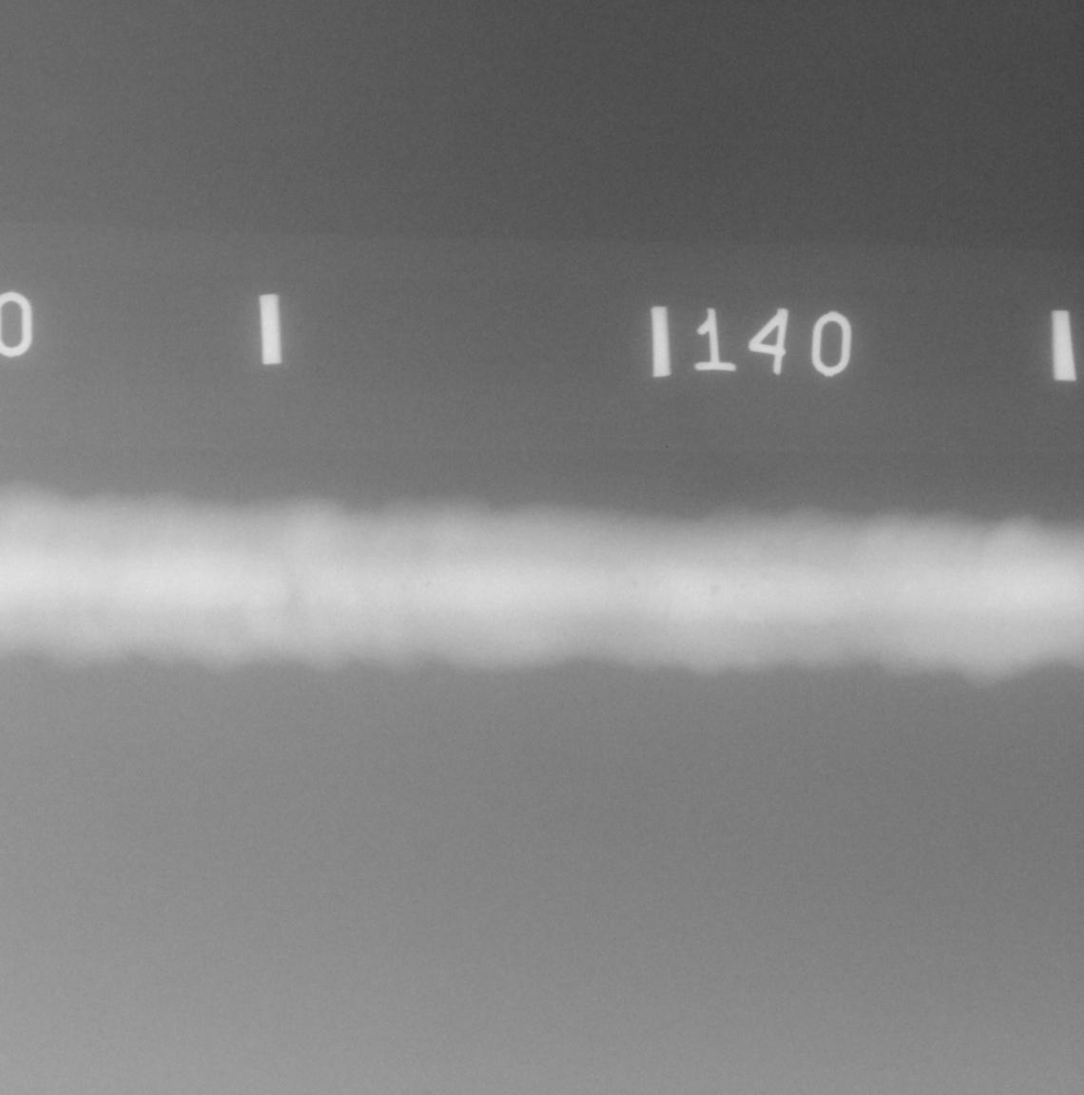Pore/Porosity: (711, 585, 719, 594), (425, 581, 431, 588), (401, 583, 407, 589), (740, 583, 746, 587), (632, 581, 636, 586)
